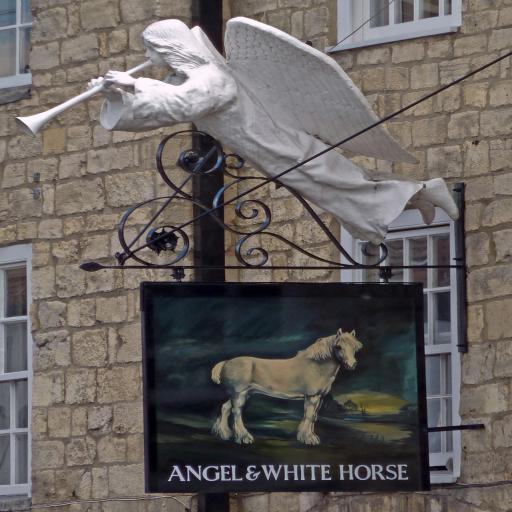horse: (208, 324, 364, 444)
